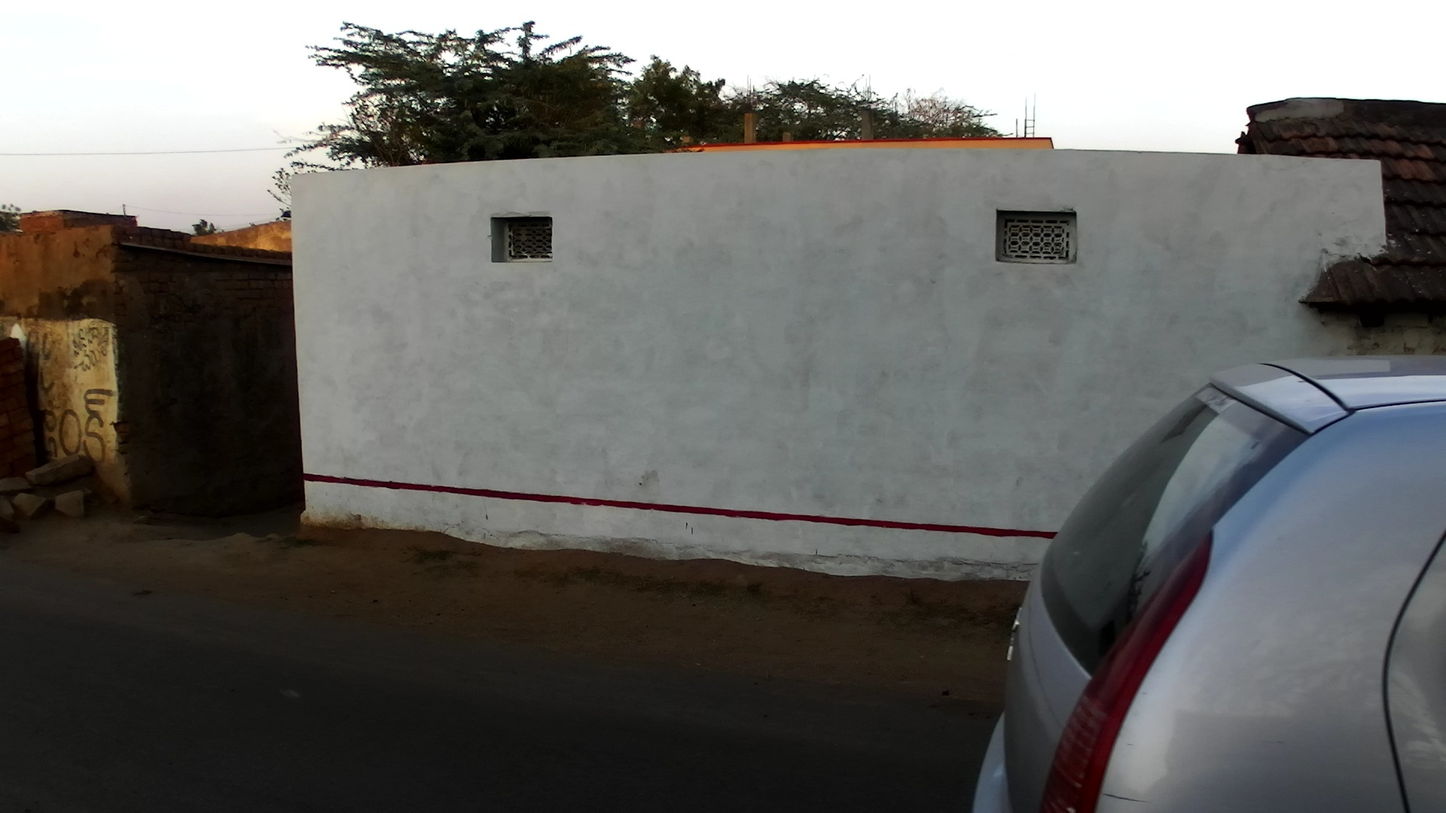car: (969, 352, 1446, 813)
